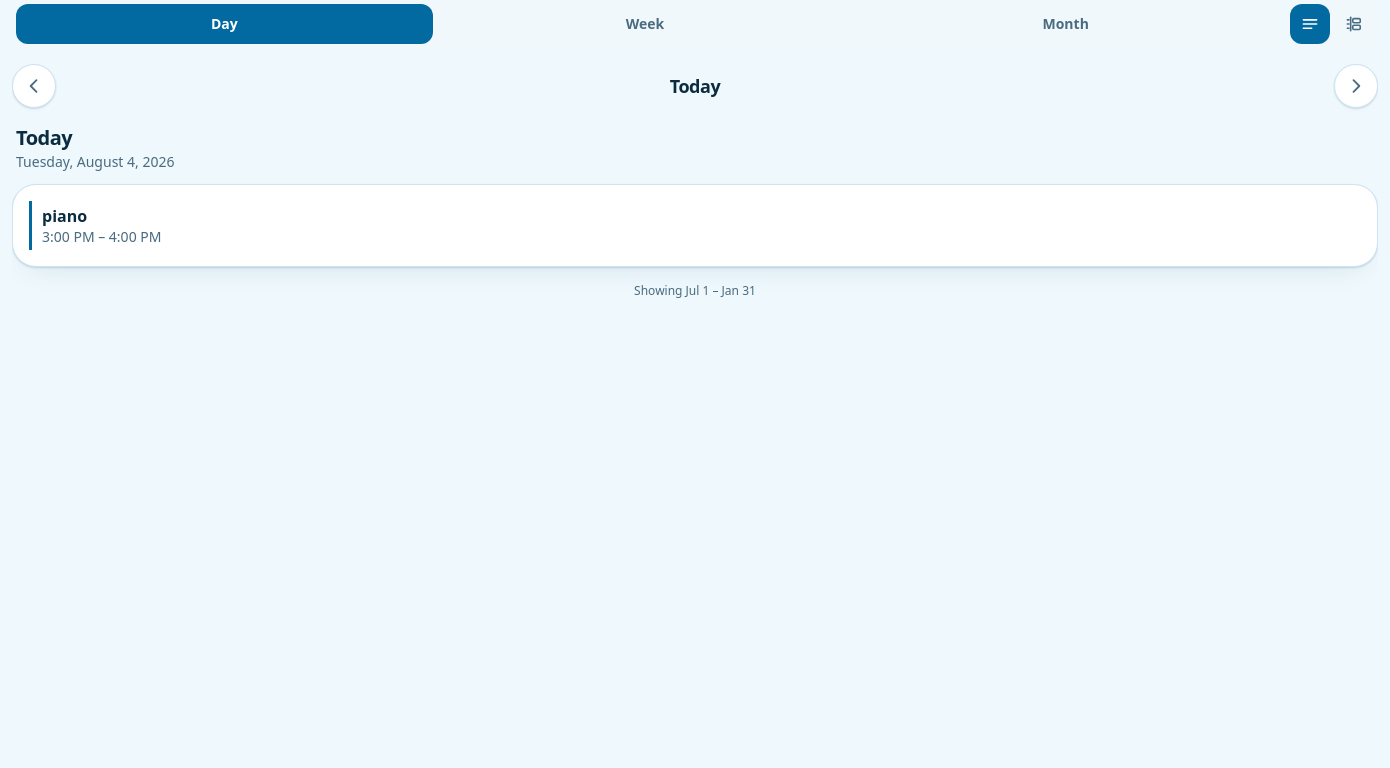
it: the calendar board › steps forward a week and back again
The width and height of the screenshot is (1390, 768).
Click the tab "Week": coordinates (645, 24) [437,4,853,44]
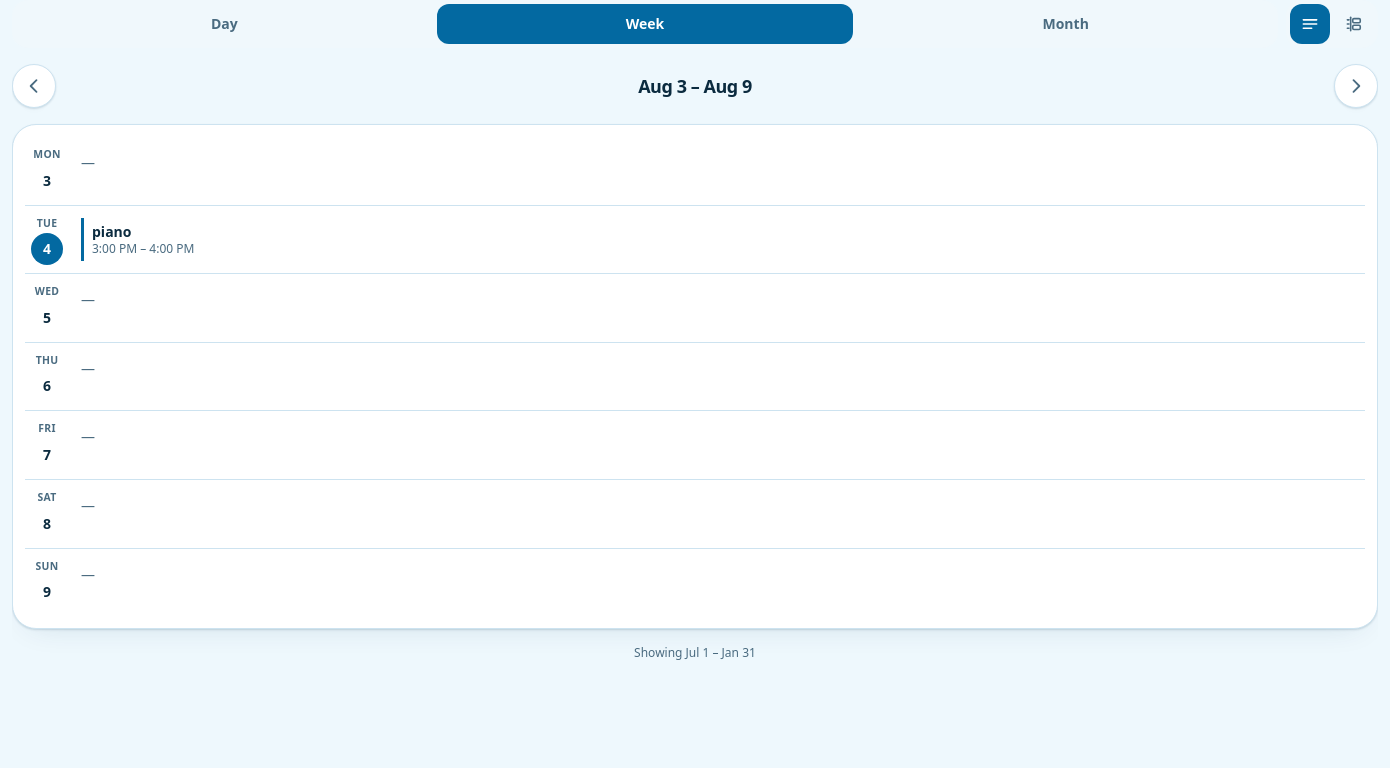
Click the button named "Next": coordinates (1356, 86) [1334,64,1378,108]
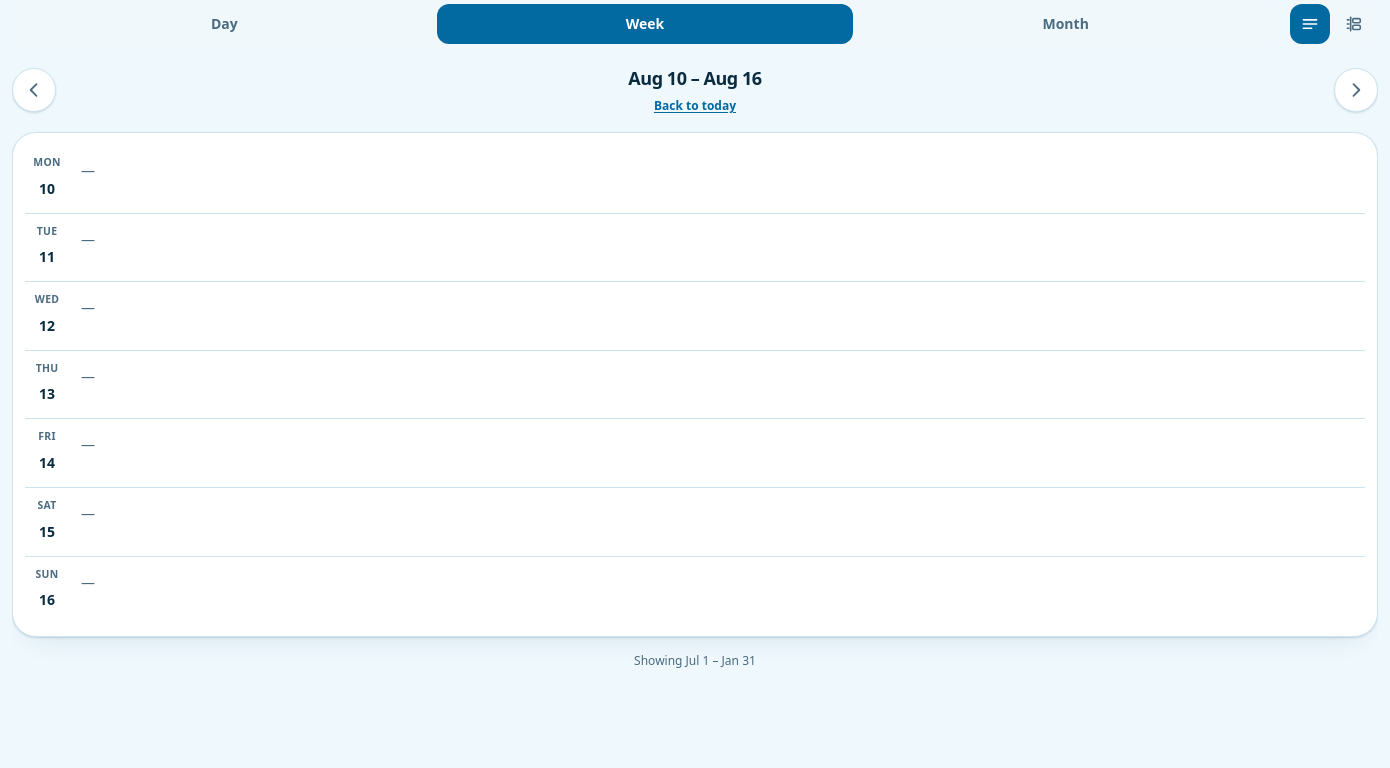
Expected: the text "piano" is gone
Click the button named "Previous": coordinates (34, 90) [12,68,56,112]
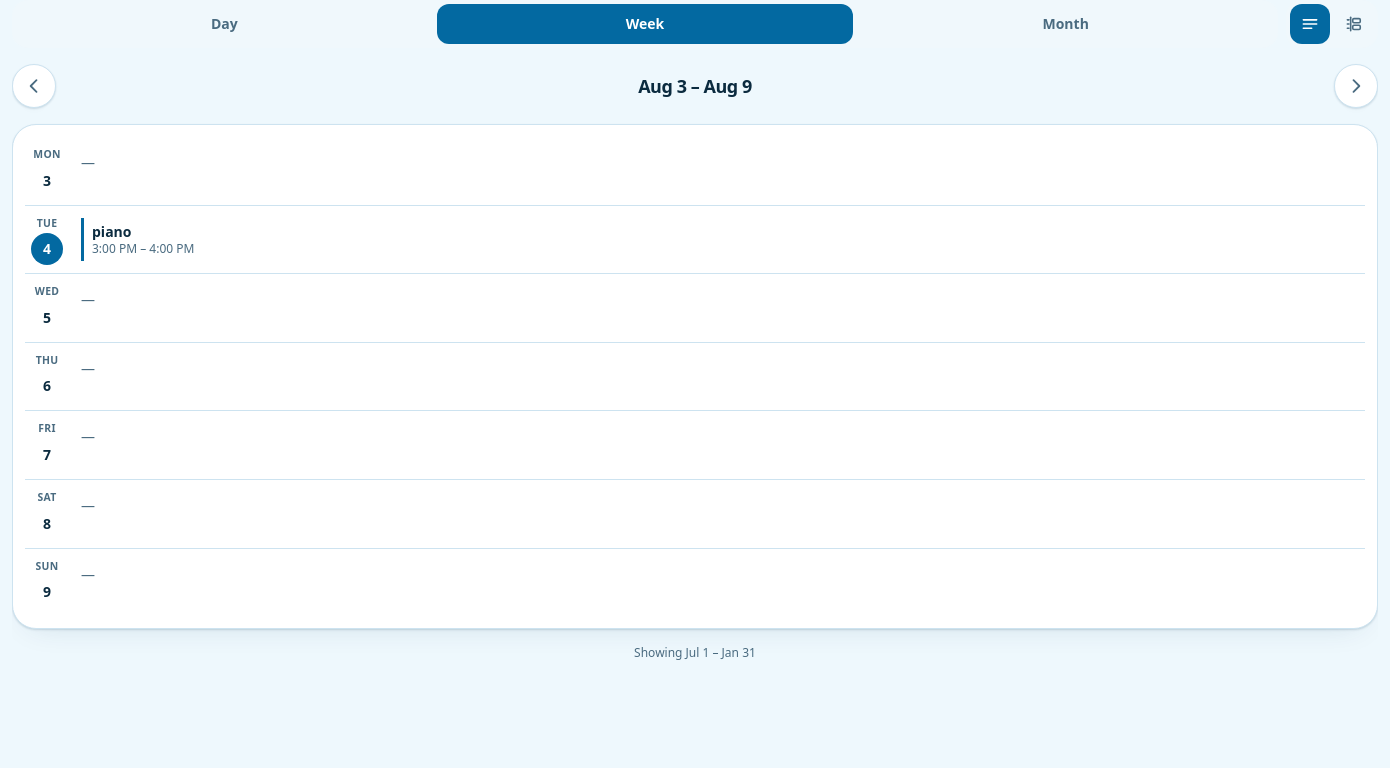
Expected: the text "piano" is shown, [92,222,132,241]
